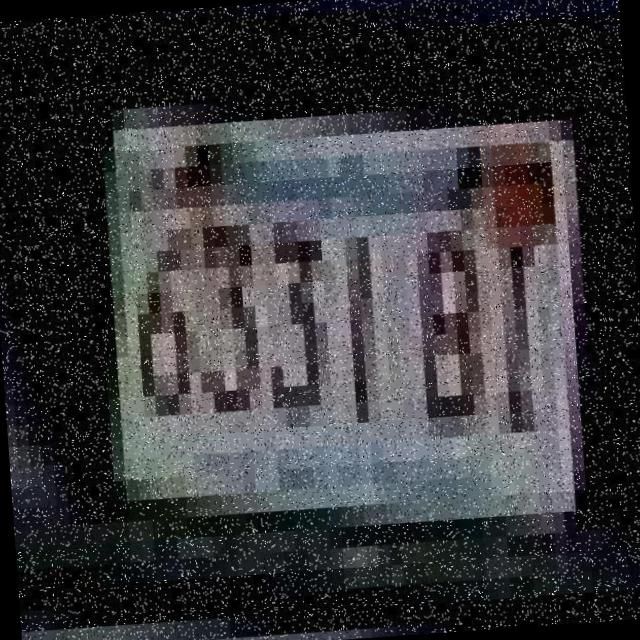LicensePlate: (55, 36, 614, 623)
